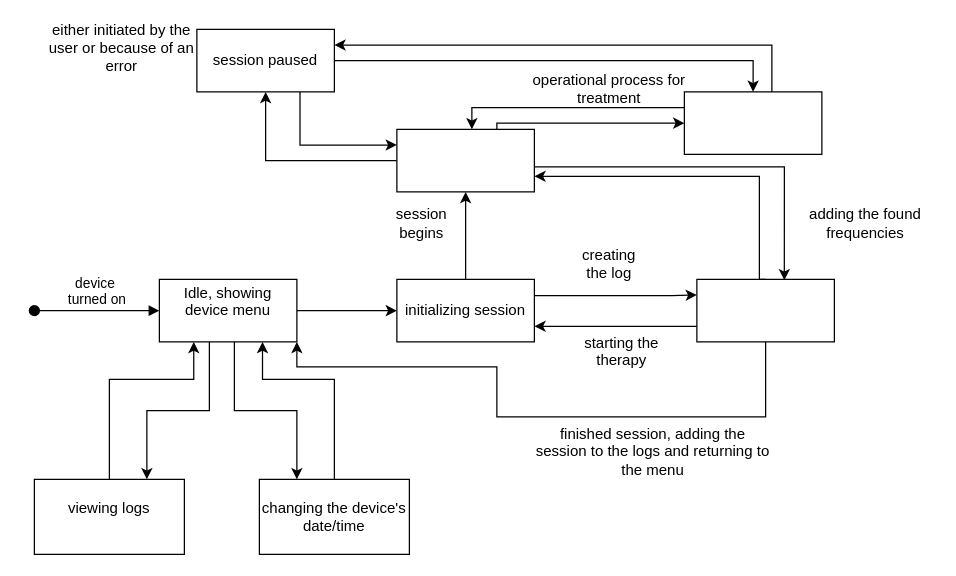
This 956x576 diagram has some shape labels left out. Each missing label, with the box of its shape:
Calculating baseline frequency: (396, 128, 534, 192)
managing therapy: (683, 91, 822, 154)
updating session log: (696, 278, 834, 342)
